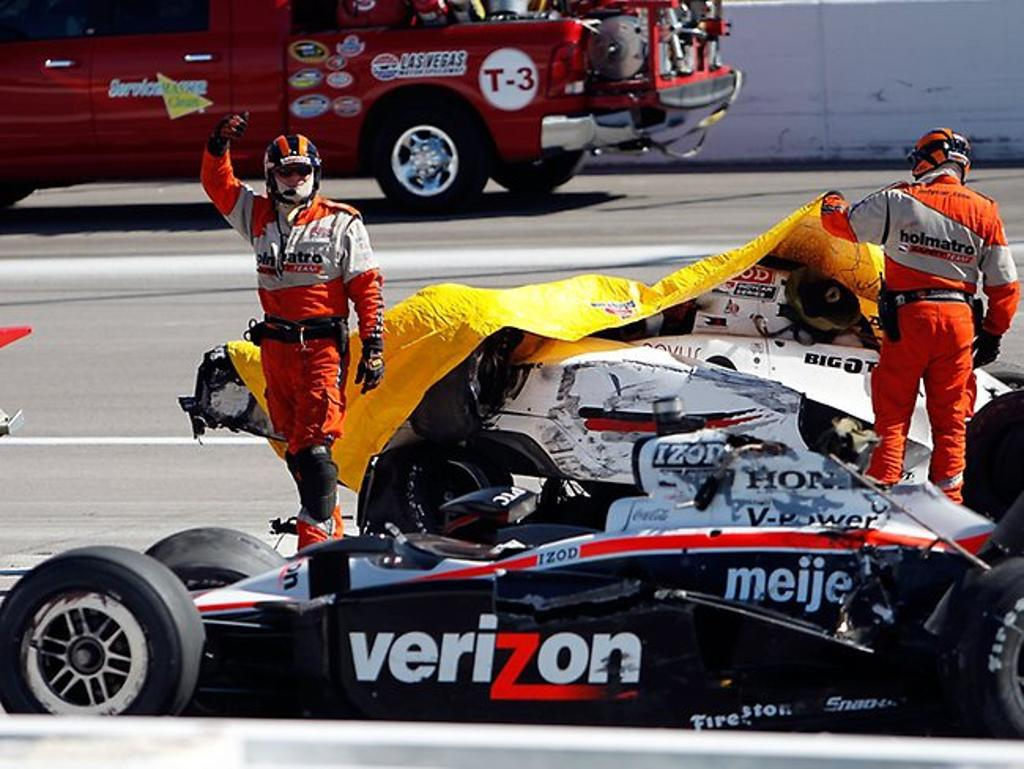face: (275, 157, 314, 202)
